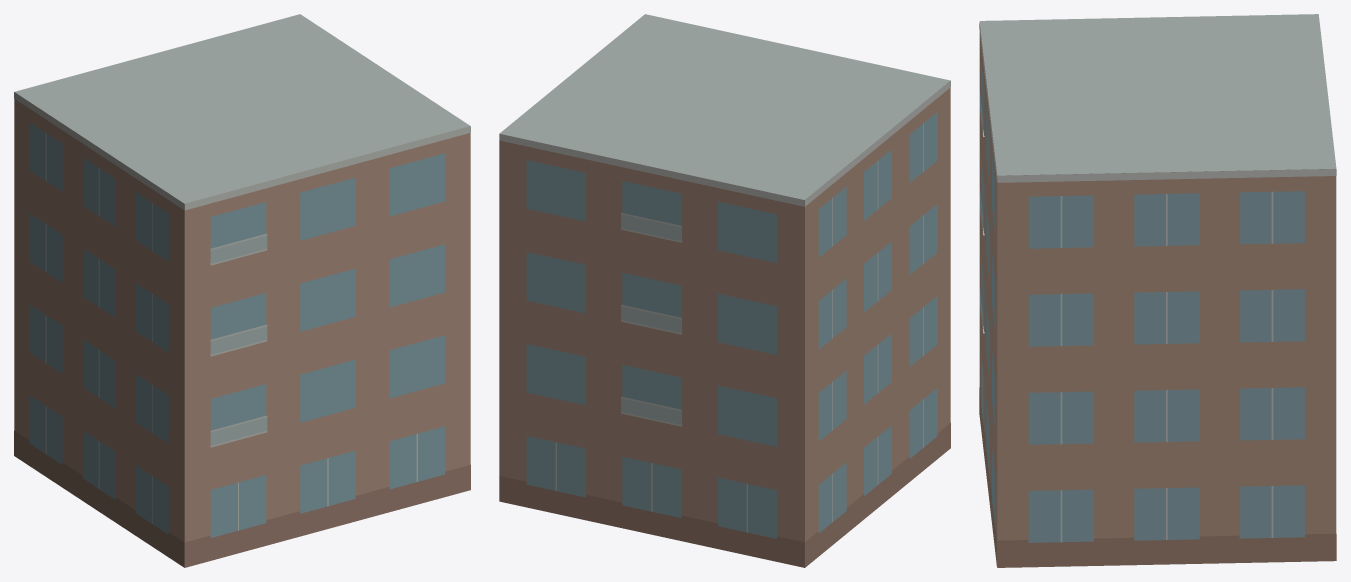
Rendered from survey-upis-32489547.glb.
3 renders of one model, left to right at view 1: azimuth 30°, elevation 25°; view 2: azimuth 150°, elevation 25°; view 3: azimuth 270°, elevation 25°, orthographic. The views are drawn at different scales.
Visible parts, largest first — view 1: survey-upis-32489547.tmp; view 2: survey-upis-32489547.tmp; view 3: survey-upis-32489547.tmp.
Boxes of the visible parts, x1=… form: survey-upis-32489547.tmp: x1=14, y1=14, x2=470, y2=567; survey-upis-32489547.tmp: x1=499, y1=14, x2=950, y2=567; survey-upis-32489547.tmp: x1=979, y1=14, x2=1336, y2=567.
Size of the model in its own units: 11.76 by 13.3 by 10.98.
